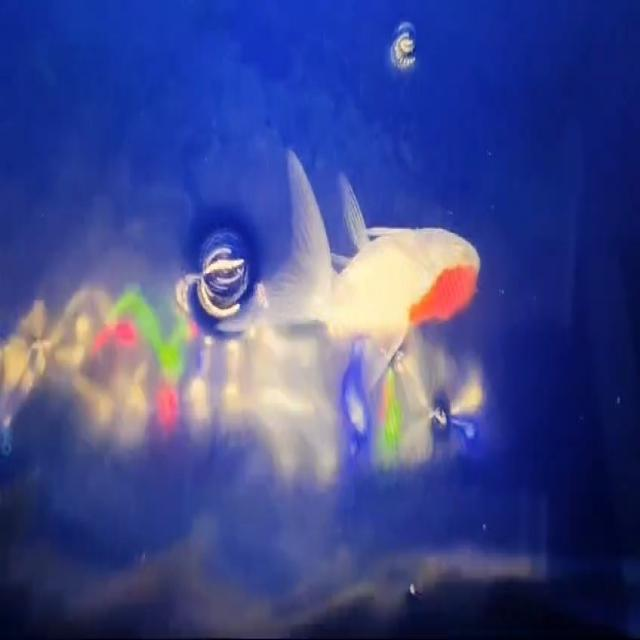fish: (262, 140, 482, 374)
